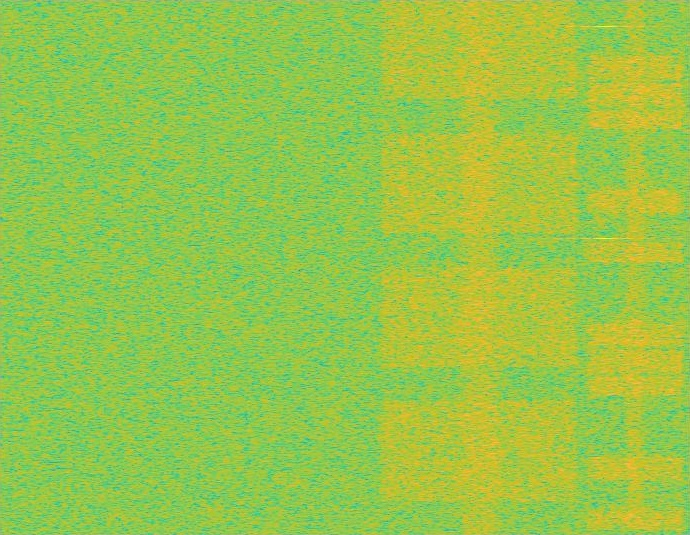5G: (376, 0, 583, 534)
DSSS: (457, 0, 503, 534), (623, 0, 647, 534)
LTE: (583, 0, 687, 534)
Radar: (599, 0, 613, 534)
